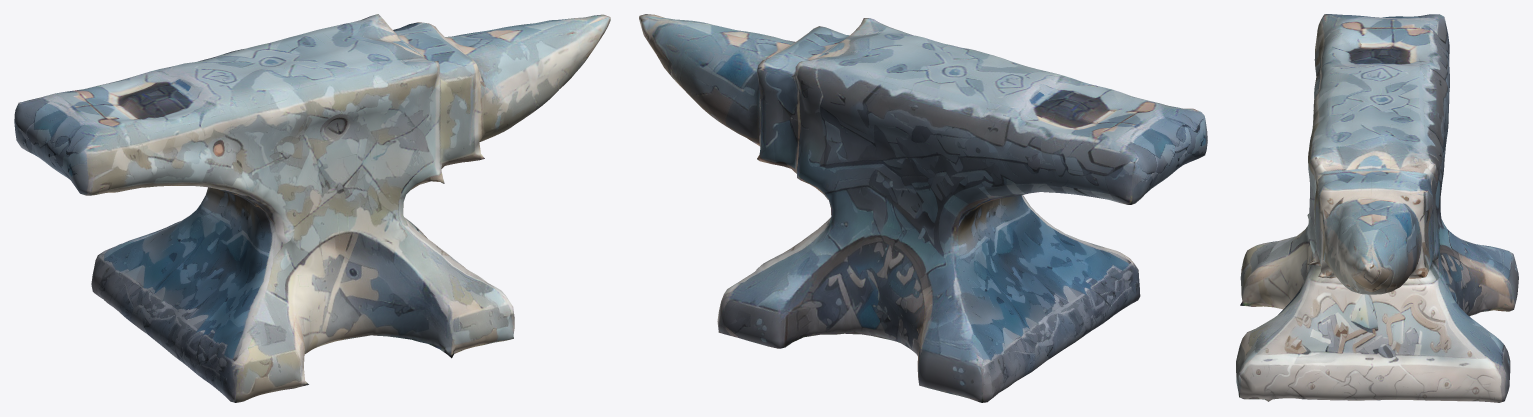
3 views of the same model, side by side, from view 1: azimuth 30°, elevation 25°; view 2: azimuth 150°, elevation 25°; view 3: azimuth 270°, elevation 25° (orthographic). The views are drawn at different scales.
Visible parts, largest first — view 1: Mesh_0; view 2: Mesh_0; view 3: Mesh_0.
Boxes of the visible parts, x1,y1,x2,y2 form: Mesh_0: (14, 14, 610, 402); Mesh_0: (639, 14, 1207, 402); Mesh_0: (1236, 14, 1518, 402).
Bounding box in the file's own units: 120 × 55.14 × 59.43.
1 material, 1 textured.
